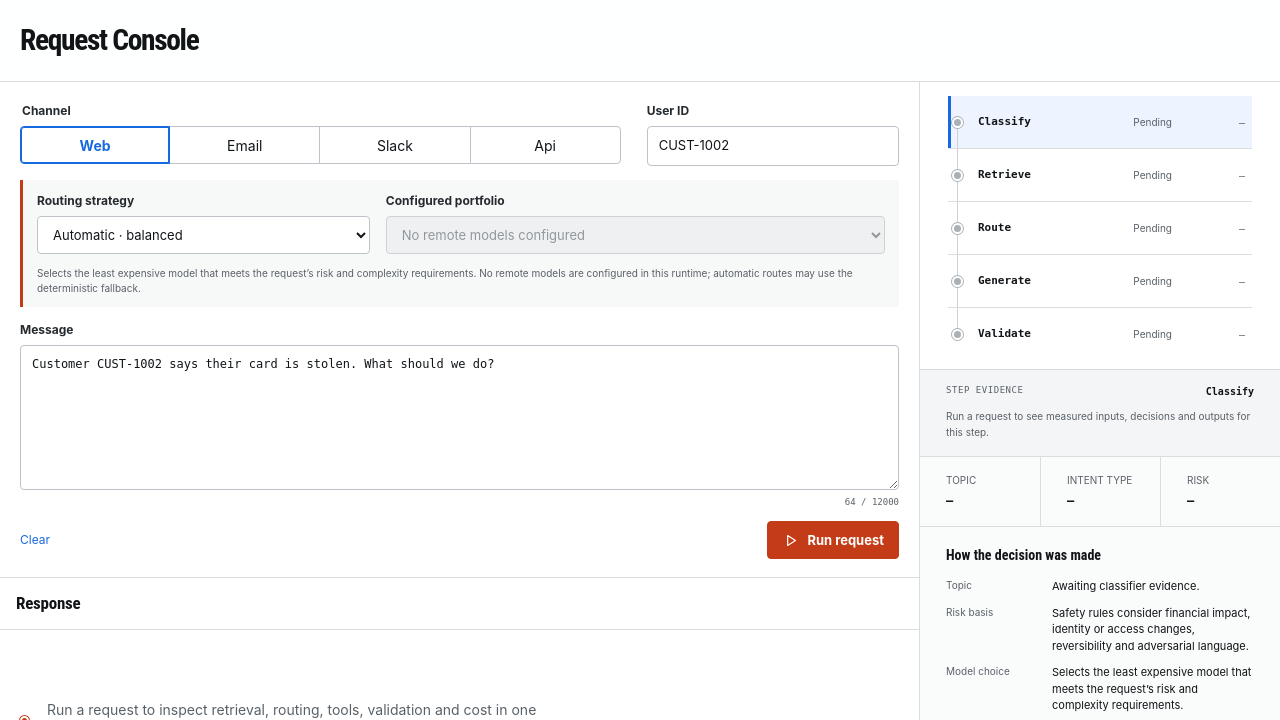
it: Operations surfaces › marks failed and skipped pipeline stages instead of claiming every step completed
The width and height of the screenshot is (1280, 720).
Click the button "Run request" at coordinates (833, 540), box [767,521,899,559]
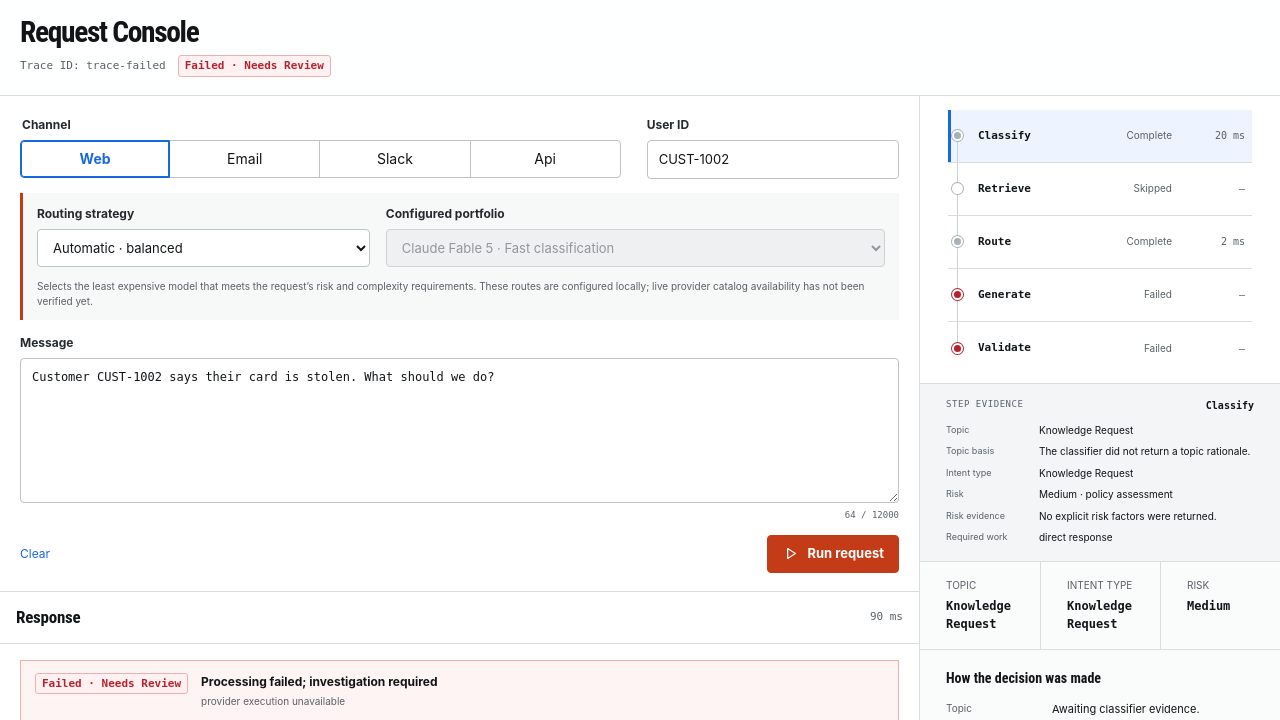
Check: the text "Processing failed; investigation required" is shown, box [201,674,438,689]
Check: the button "Classify Complete 20 ms" is shown, box [948,110,1252,163]
Check: the button "Retrieve Skipped —" is shown, box [948,163,1252,216]
